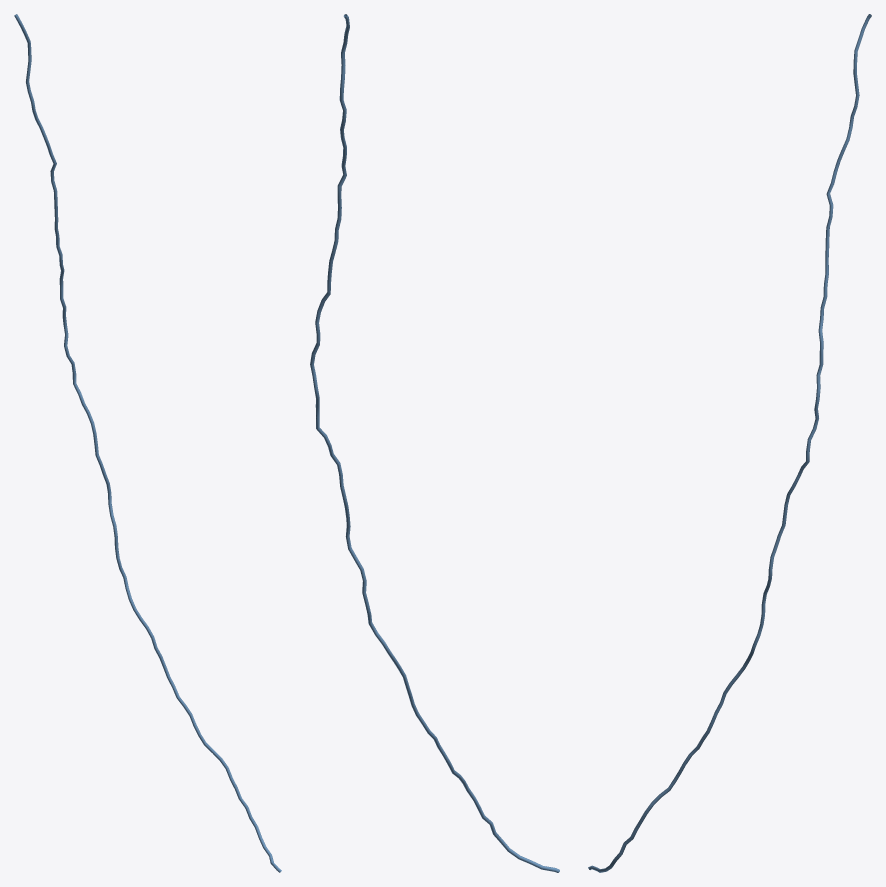
File: sweep318.fbx
3 views of the same model, side by side, from view 1: azimuth 90°, elevation 25°; view 2: azimuth 150°, elevation 25°; view 3: azimuth 270°, elevation 25° (orthographic). The views are drawn at different scales.
Parts seen in each view (by area): view 1: sweep318; view 2: sweep318; view 3: sweep318.
Boxes of the visible parts, x1,y1,x2,y2 form: sweep318: (14,14,281,872); sweep318: (310,14,559,872); sweep318: (588,14,871,872).
Size of the model in its own units: 0.7186 by 5.19 by 1.51.
